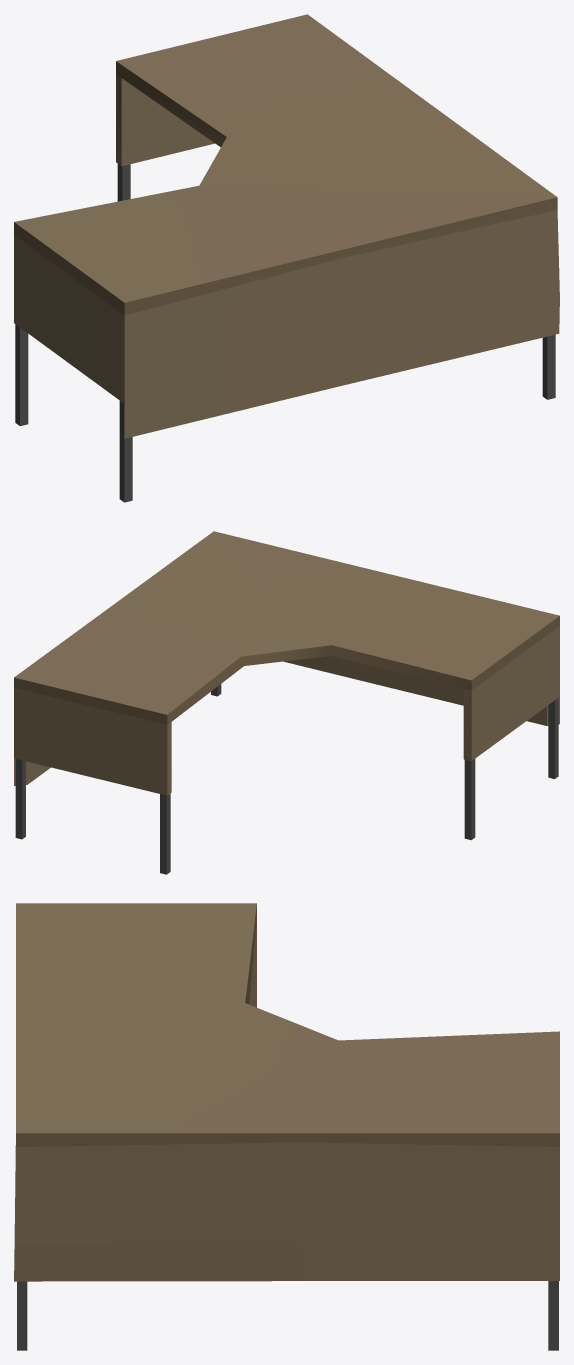
File: Prop_Desk_03.glb
The picture shows the model from 3 angles, top to bottom: view 1: azimuth 30°, elevation 25°; view 2: azimuth 150°, elevation 25°; view 3: azimuth 270°, elevation 25°; orthographic projection. The views are drawn at different scales.
Parts seen in each view (by area): view 1: SM_Prop_Desk_03; view 2: SM_Prop_Desk_03; view 3: SM_Prop_Desk_03.
Part boxes in pixels (box(x1,y1,x2,y2)): SM_Prop_Desk_03: box(14, 14, 559, 502); SM_Prop_Desk_03: box(14, 531, 559, 874); SM_Prop_Desk_03: box(14, 903, 559, 1350).
Size of the model in its own units: 1.97 by 0.8667 by 1.97.
1 material, 1 textured.
